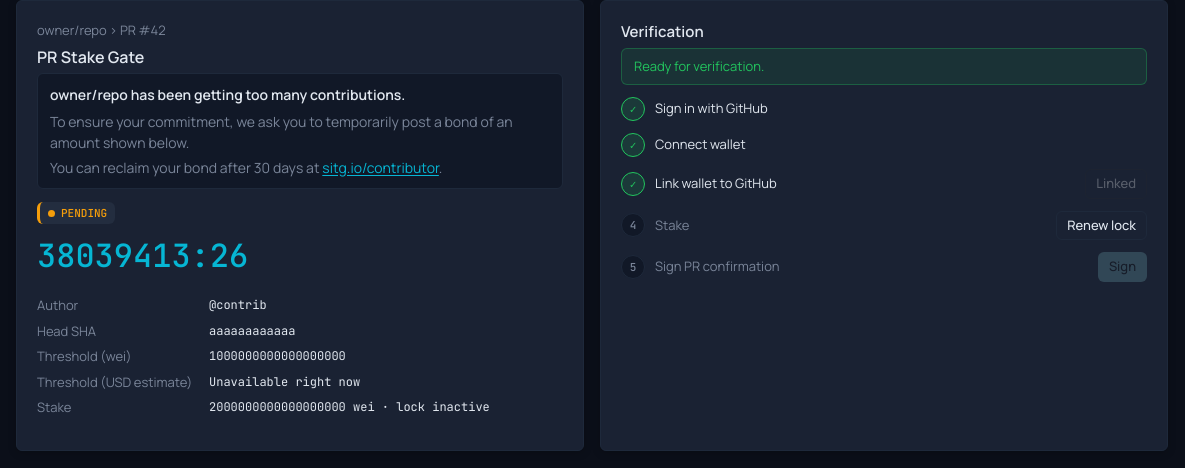
Scenario: GatePage confirmation flow › renews an expired lock without sending more ETH
Click the button "Renew lock": [1102, 225] box [1056,210,1147,240]
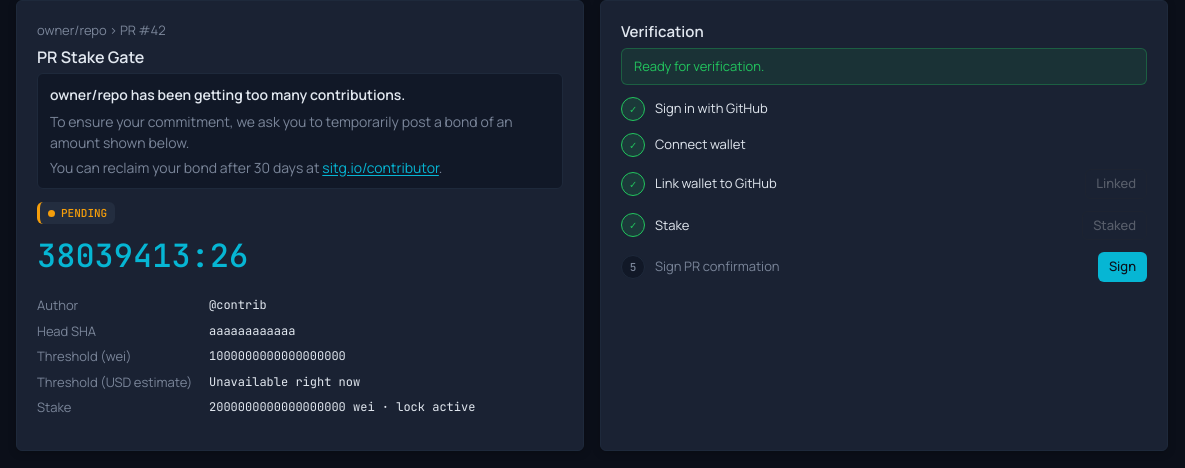
Expected: the button "Staked" is shown, [1082,210,1147,240]
